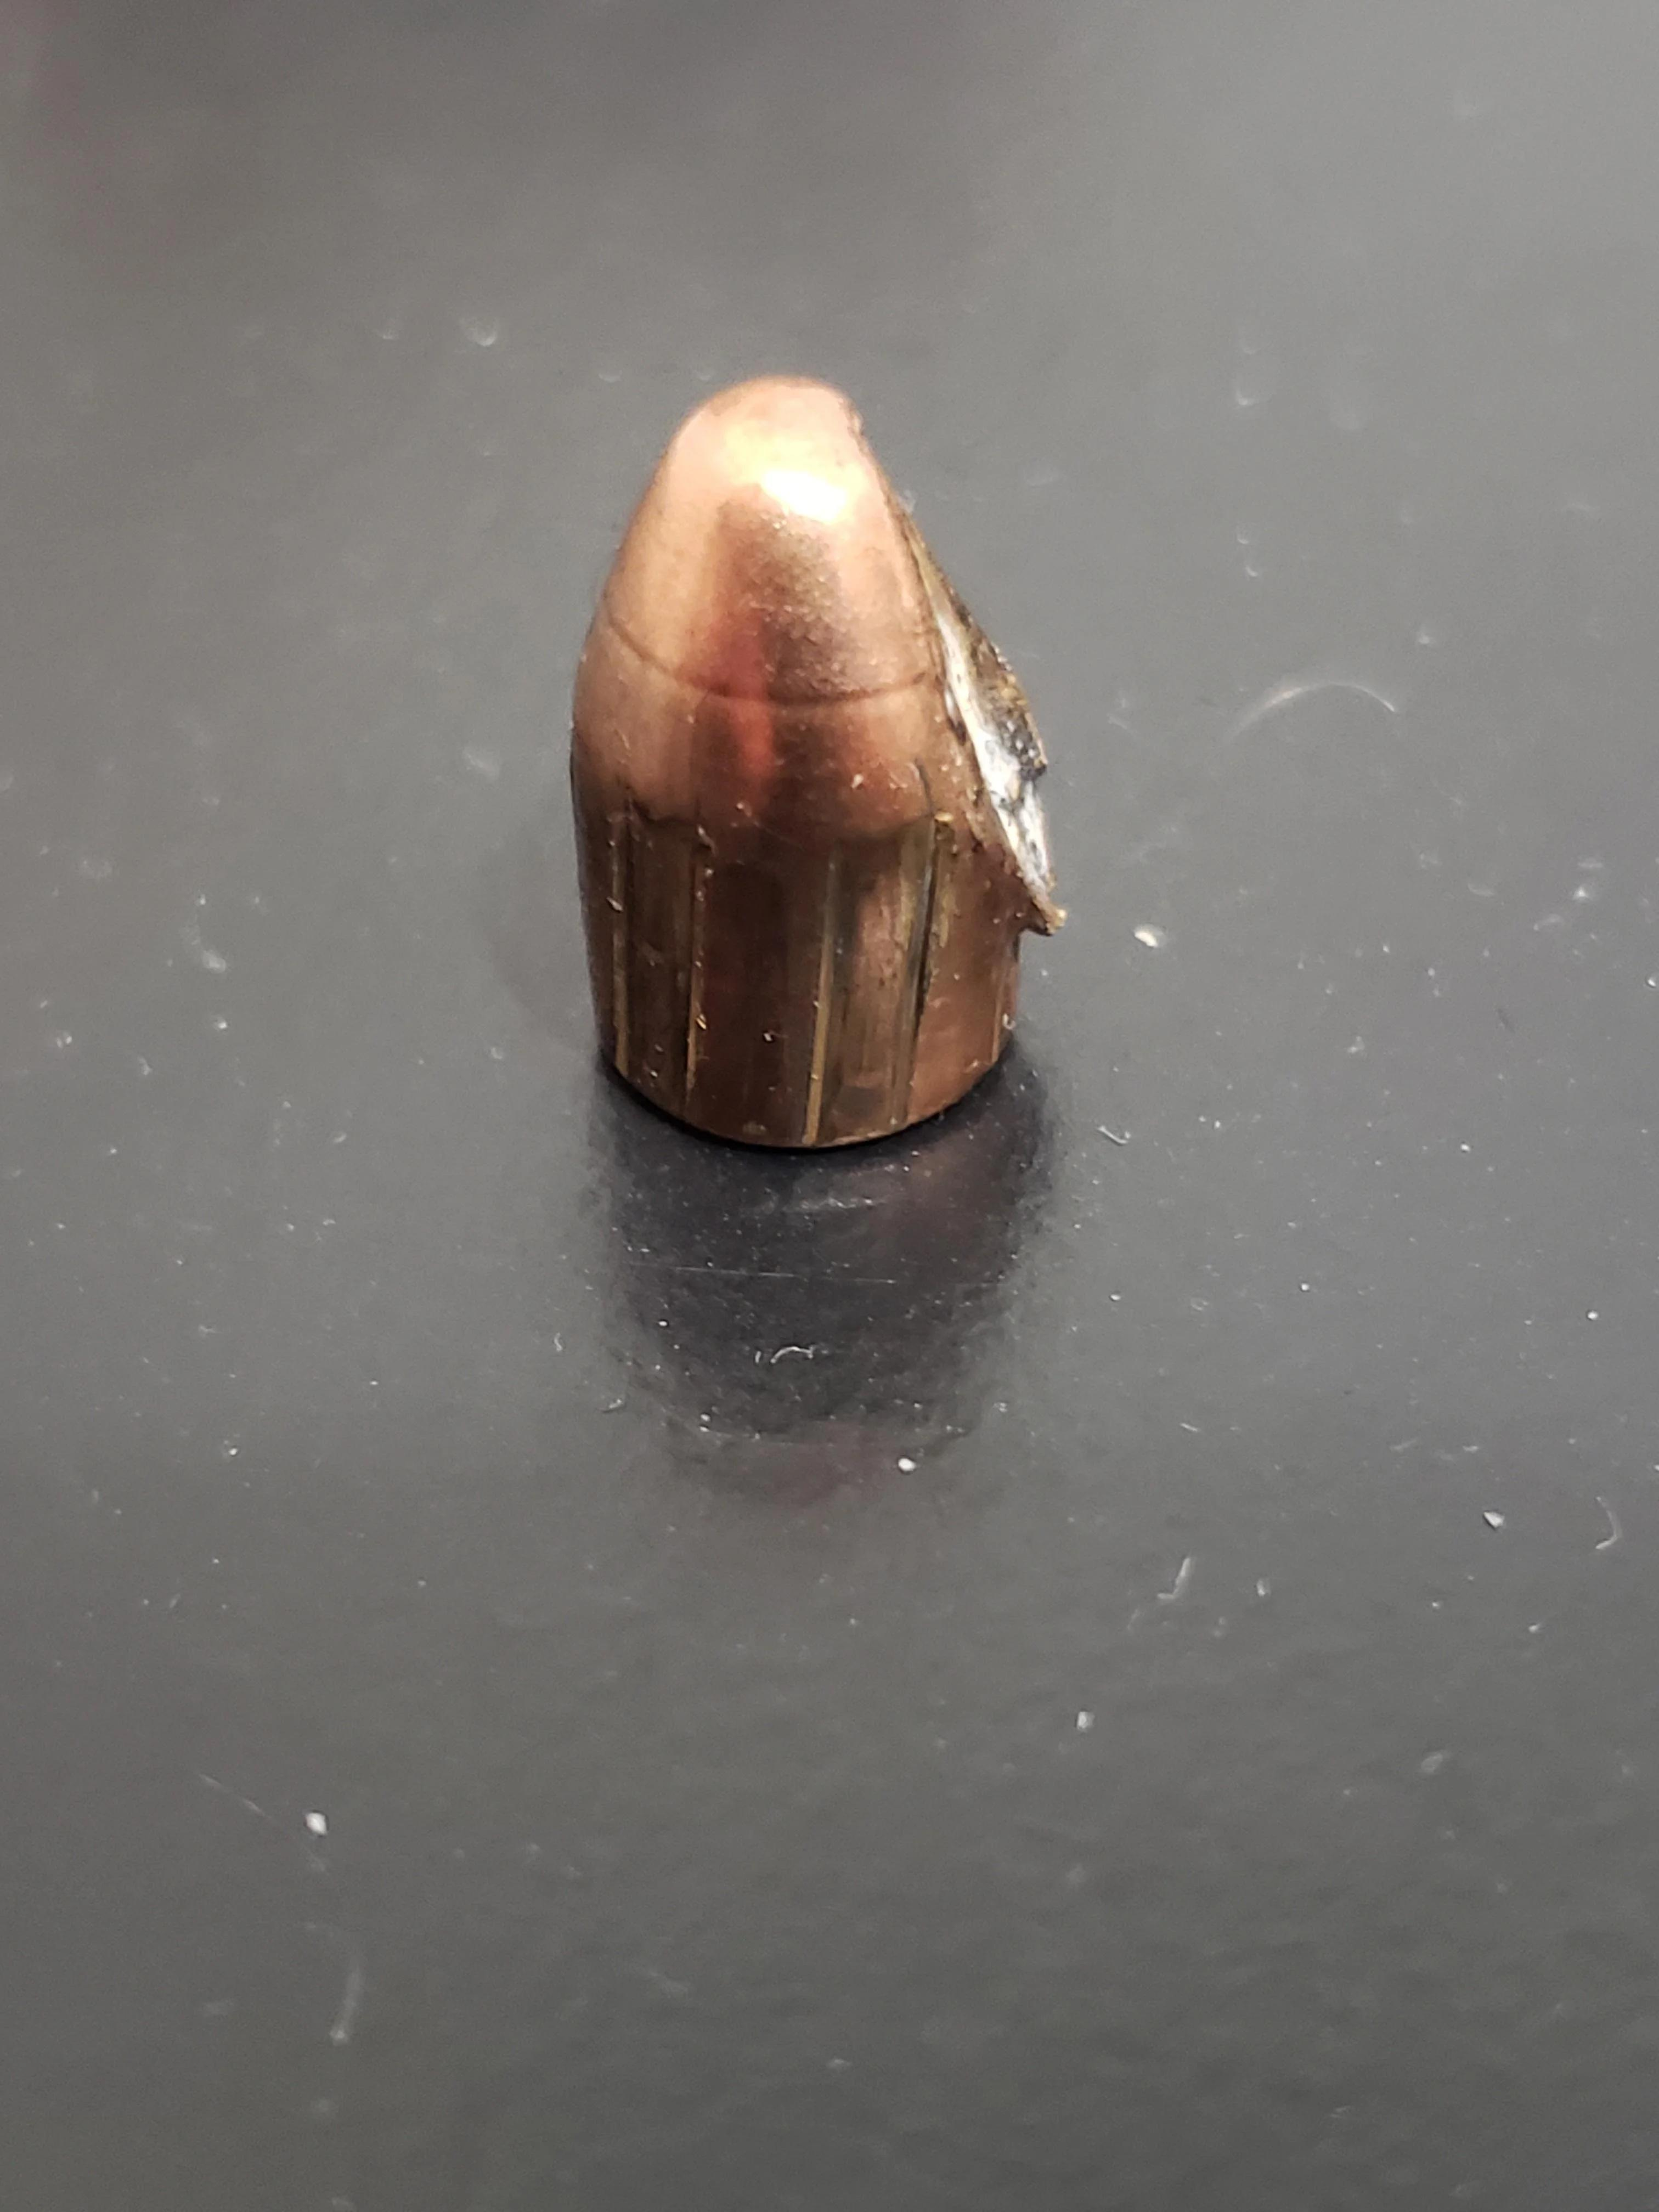Bullet: (550, 326, 1090, 1207)
